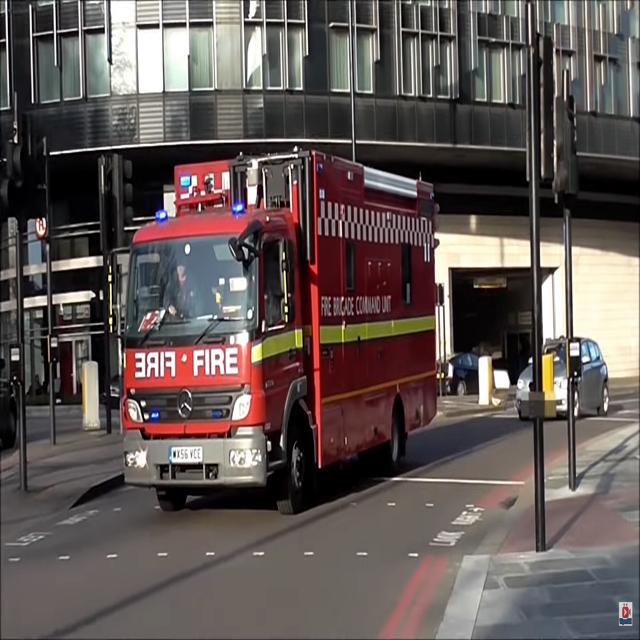emergency-vehicles: (91, 132, 461, 520)
